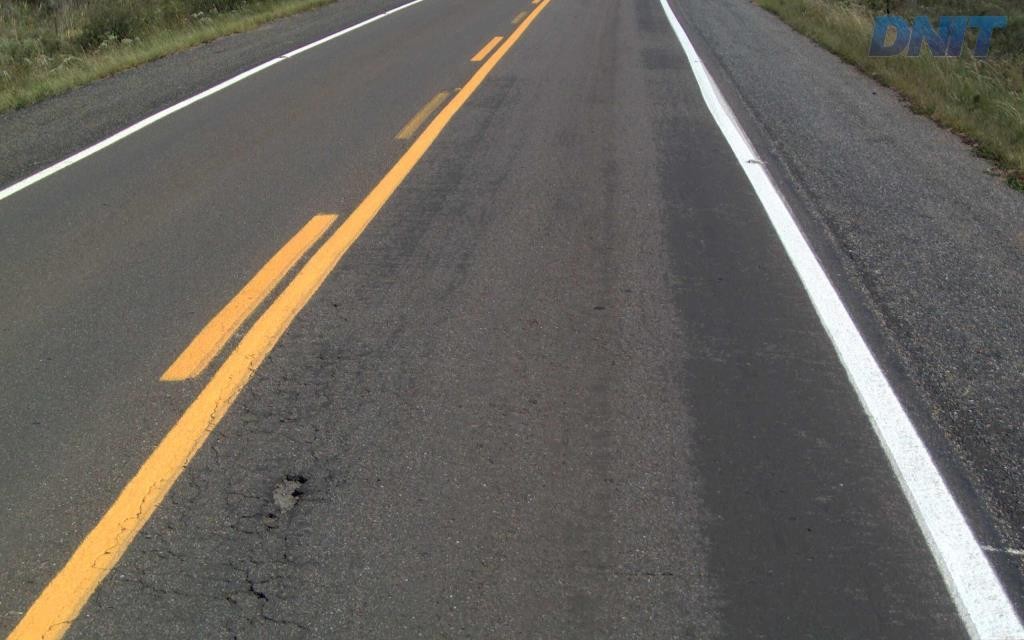crack: (221, 569, 277, 623)
pothole: (255, 469, 319, 518)
